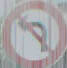Don't turn left: (5, 6, 59, 60)
